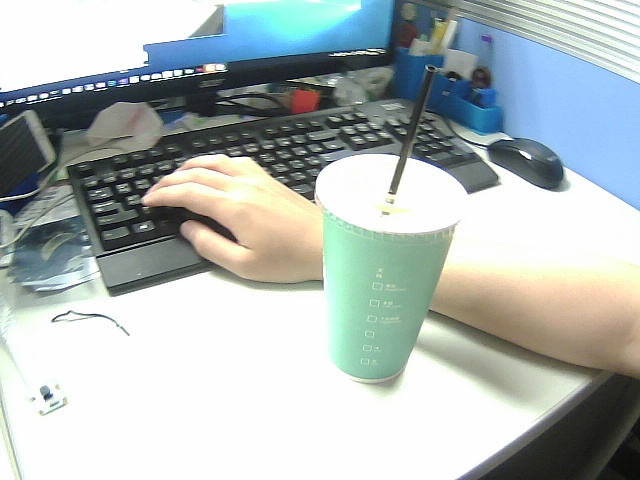beverage: (303, 57, 483, 394)
